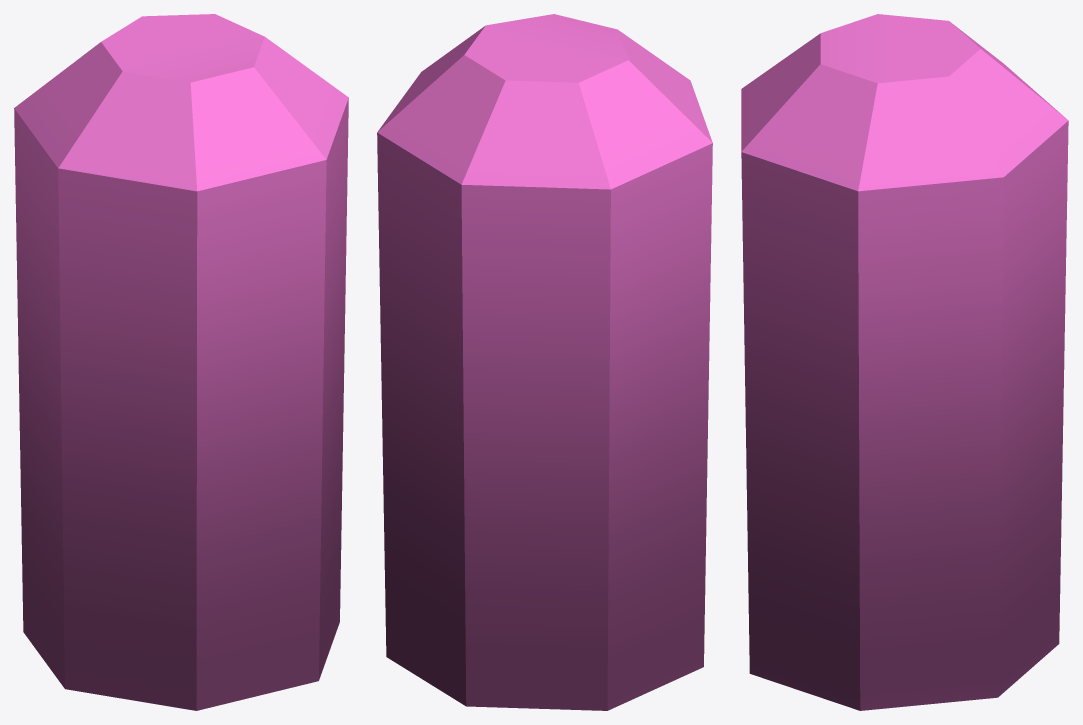
File: Crystal005.fbx
3 renders of one model, left to right at view 1: azimuth 30°, elevation 25°; view 2: azimuth 150°, elevation 25°; view 3: azimuth 270°, elevation 25°, orthographic.
Visible parts, largest first — view 1: Crystal005; view 2: Crystal005; view 3: Crystal005.
Boxes of the visible parts, <box> form: Crystal005: <box>14,14,348,710</box>; Crystal005: <box>377,14,712,710</box>; Crystal005: <box>741,14,1068,710</box>.
Bounding box in the file's own units: 49.69 × 97.23 × 48.45.
